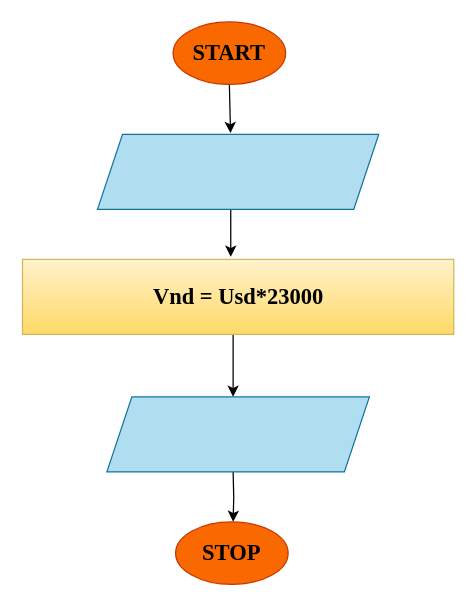
Some shapes in this 475 by 606 pixel diagram are drawn without their labels. Each missing label, with the centre of its shape:
"DISPLAY Vnd" belongs at point 237,434.
"INPUT Usd" belongs at point 237,171.
